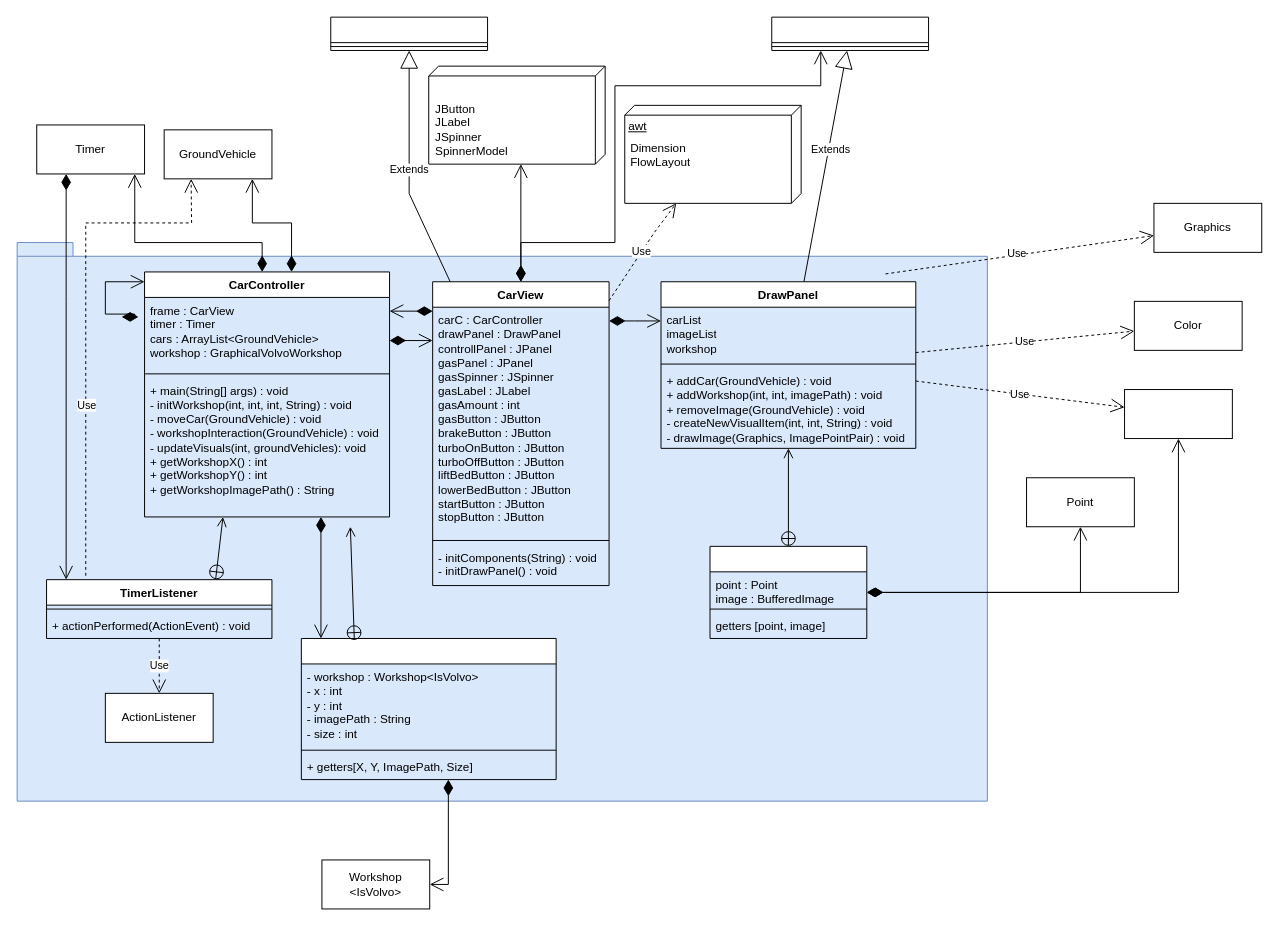
The diagram is 1279 pixels wide and 926 high, and some of its shapes have lost their labels. Here are the shapes that lost their labels. From the top down, the box of each, then its label:
(330, 16, 488, 50): JFrame
(771, 16, 929, 50): JPanel
(428, 65, 605, 164): swing
(1124, 389, 1232, 439): BufferedImage
(709, 545, 867, 638): ImagePointPair
(300, 637, 556, 780): GraphicalVolvoWorkshop
